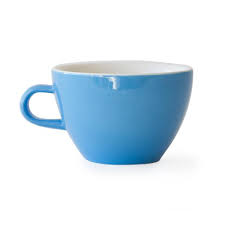cup: (18, 59, 197, 172)
